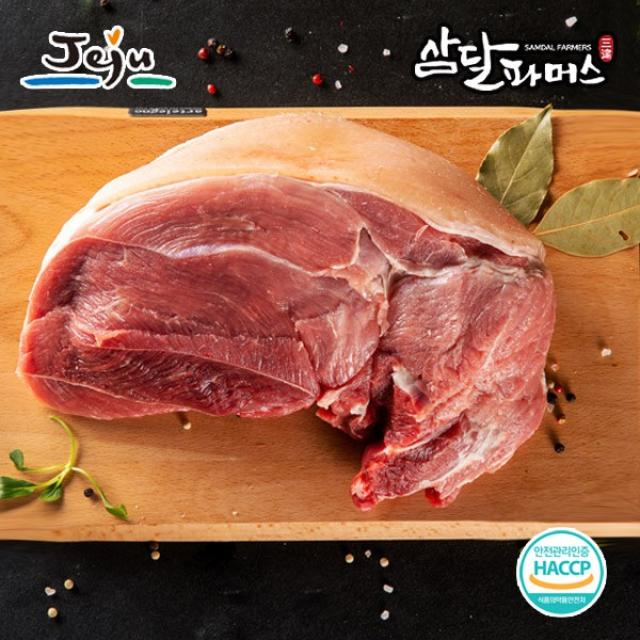pork: (18, 116, 582, 518)
